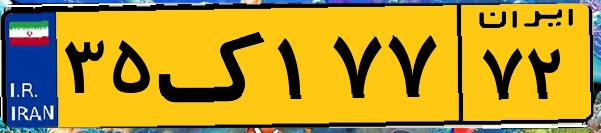1: (270, 28, 330, 110)
2: (525, 38, 570, 115)
3: (57, 26, 110, 100)
5: (110, 28, 158, 98)
7: (385, 28, 445, 110), (330, 28, 385, 110), (475, 38, 525, 113)
ک: (158, 12, 270, 120)
